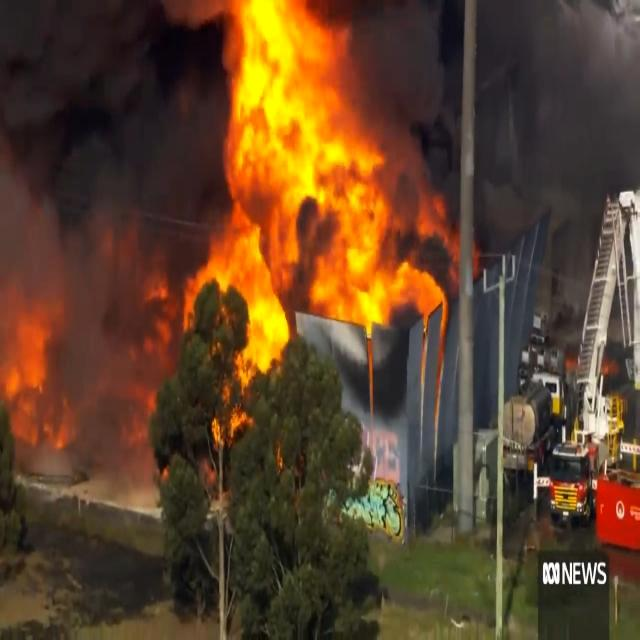fire: (212, 1, 420, 522), (0, 296, 120, 482), (134, 258, 208, 328)
